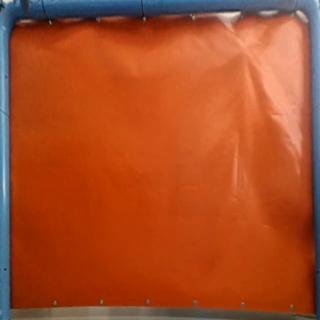Hit-hRxx: (238, 46, 256, 62)
